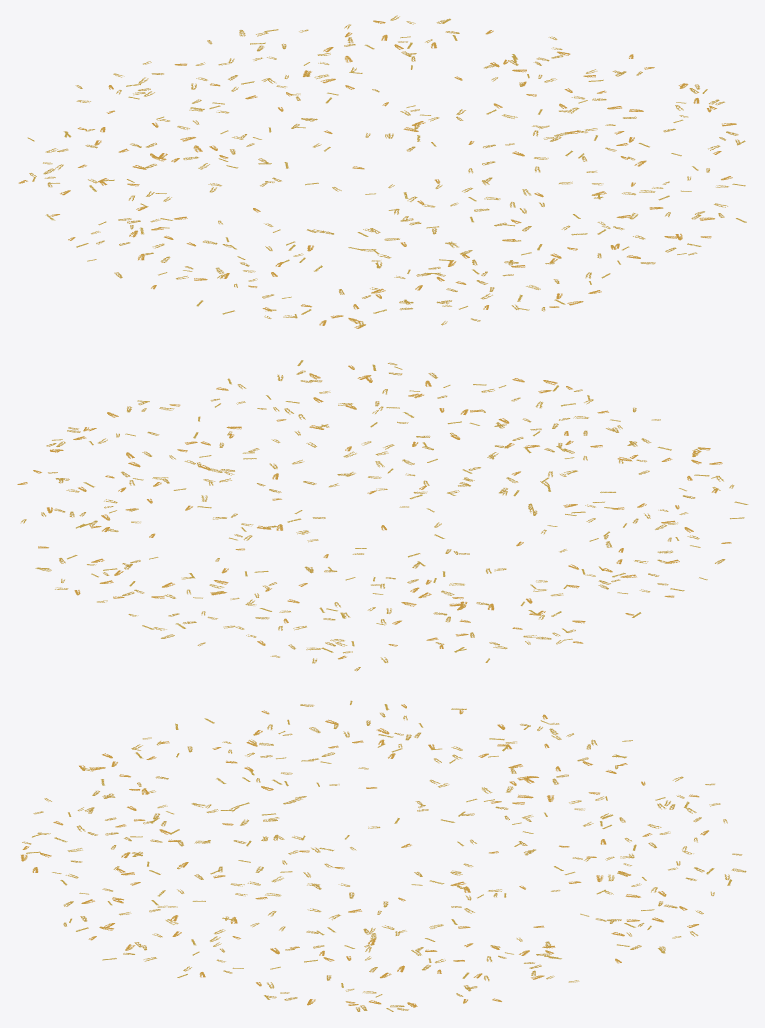
File: saule_adulte_a.fbx
The picture shows the model from 3 angles, top to bottom: view 1: azimuth 30°, elevation 25°; view 2: azimuth 150°, elevation 25°; view 3: azimuth 270°, elevation 25°; orthographic projection.
Parts seen in each view (by area): view 1: saule_adulte_a_feuilles_sol; view 2: saule_adulte_a_feuilles_sol; view 3: saule_adulte_a_feuilles_sol.
Boxes of the visible parts, box(x1,y1,x2,y2) form: saule_adulte_a_feuilles_sol: box(18, 15, 746, 328); saule_adulte_a_feuilles_sol: box(17, 360, 748, 671); saule_adulte_a_feuilles_sol: box(21, 700, 746, 1011).
Size of what is drawn, in the model's own units: 20.11 by 0.00595 by 20.
